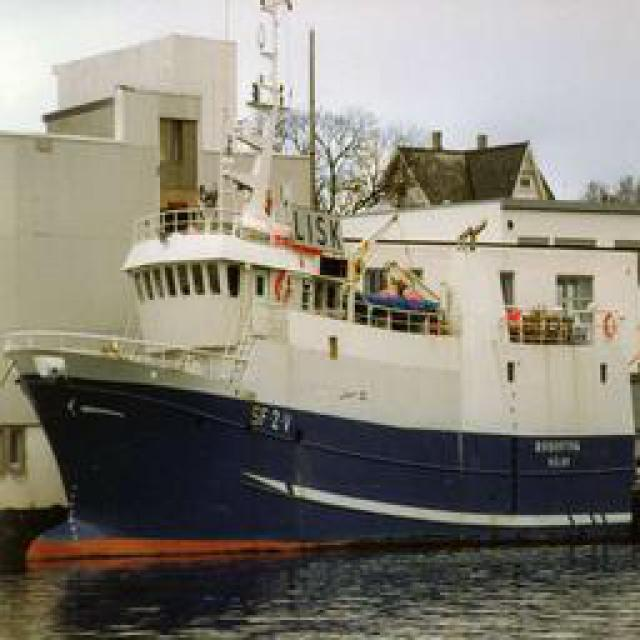Ship: (14, 103, 637, 548)
